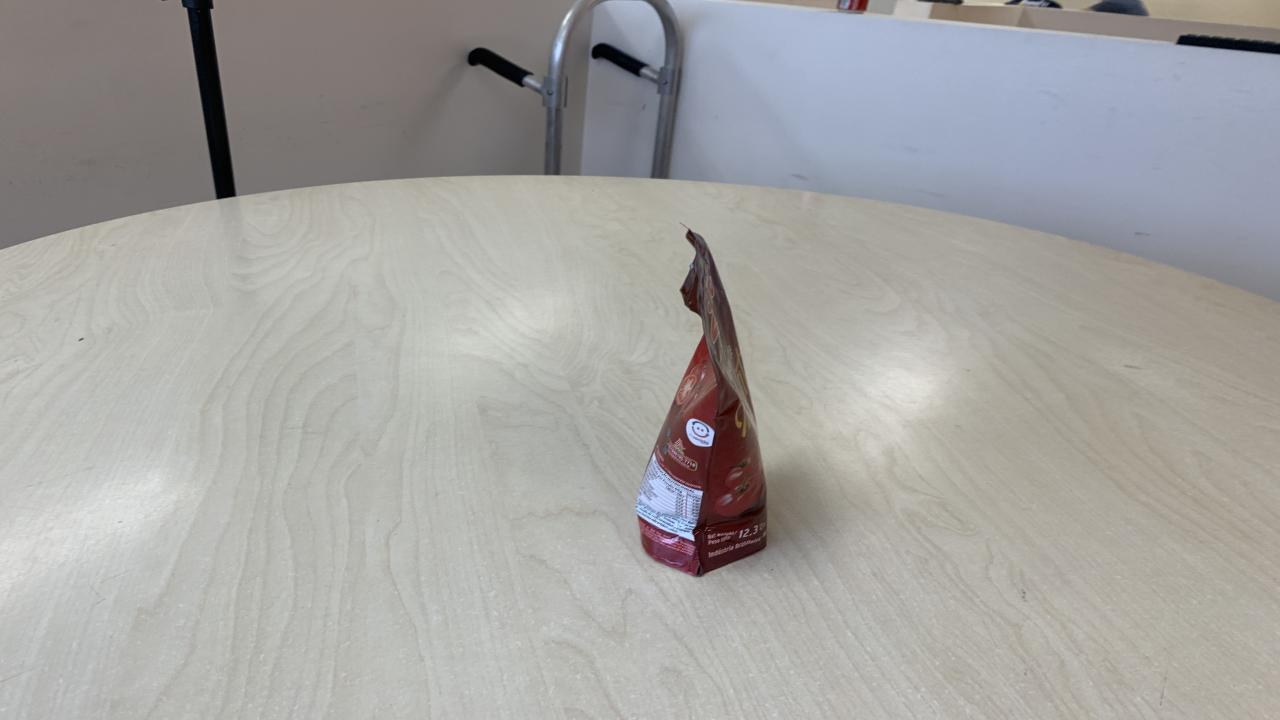Tomato_Sauce-Pantry_Items: (635, 234, 769, 579)
